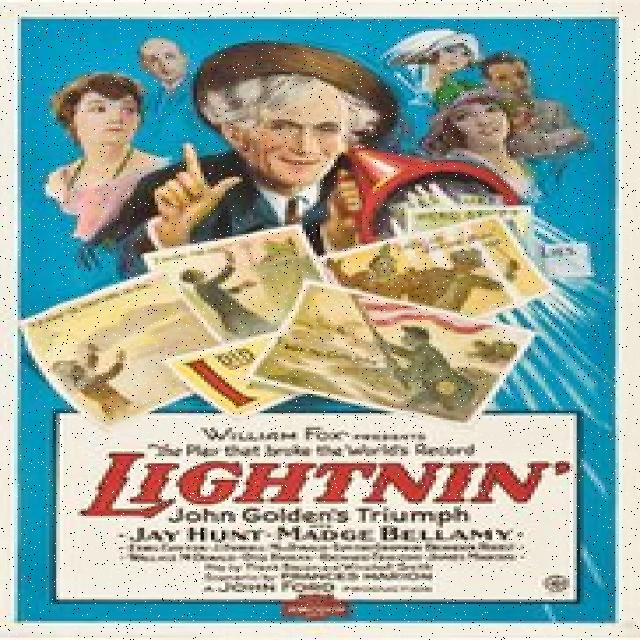movie-judul: (63, 416, 576, 602)
picture: (21, 20, 614, 623)
